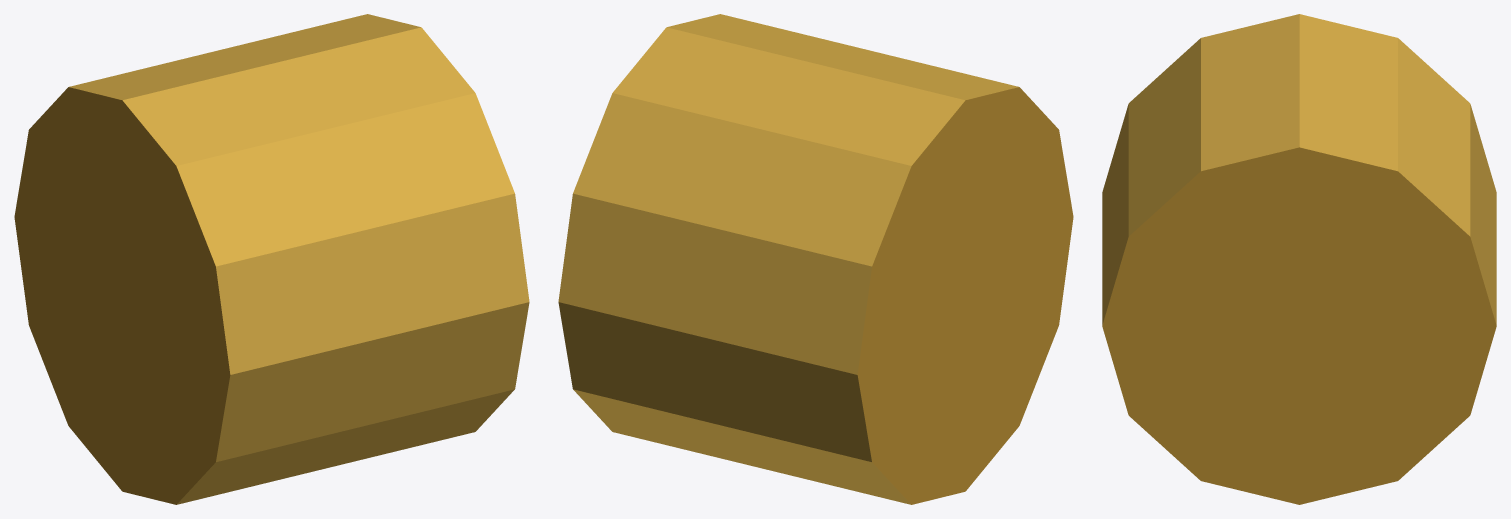
File: round-hay-bale.glb
3 renders of one model, left to right at view 1: azimuth 30°, elevation 25°; view 2: azimuth 150°, elevation 25°; view 3: azimuth 270°, elevation 25°, orthographic. The views are drawn at different scales.
Visible parts, largest first — view 1: round-hay-bale; view 2: round-hay-bale; view 3: round-hay-bale.
Part boxes in pixels (x1,y1,x2,y2): round-hay-bale: (14, 14, 529, 504); round-hay-bale: (558, 14, 1073, 504); round-hay-bale: (1102, 14, 1496, 504).
Bounding box in the file's own units: 1.2 × 1.5 × 1.5.
